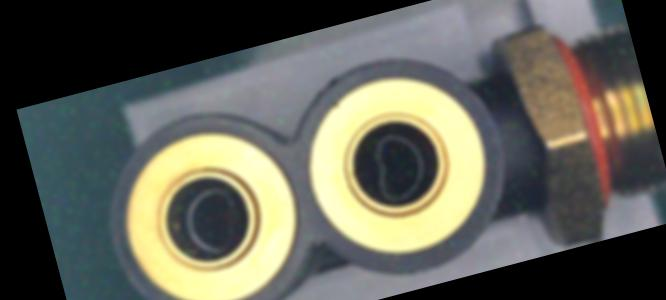off-centered: (357, 124, 438, 208), (176, 181, 253, 260)
